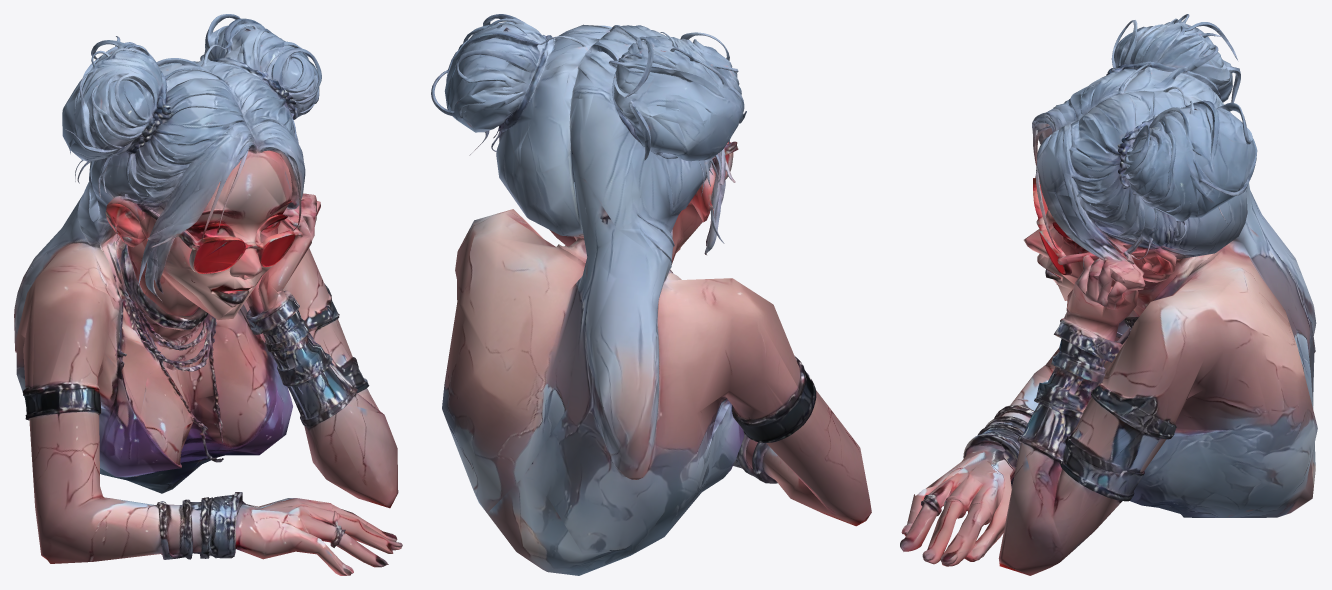
File: 01a19c09-8d08-7342-97fb-7bba2dff2ac7.glb
3 renders of one model, left to right at view 1: azimuth 30°, elevation 25°; view 2: azimuth 150°, elevation 25°; view 3: azimuth 270°, elevation 25°, orthographic. The views are drawn at different scales.
Parts seen in each view (by area): view 1: model; view 2: model; view 3: model.
Part boxes in pixels (x1,y1,x2,y2): model: (14, 14, 402, 575); model: (431, 14, 871, 575); model: (900, 14, 1317, 575).
Bounding box in the file's own units: 1.47 × 1.89 × 1.51.
Materials: 1 (1 with a texture image).
